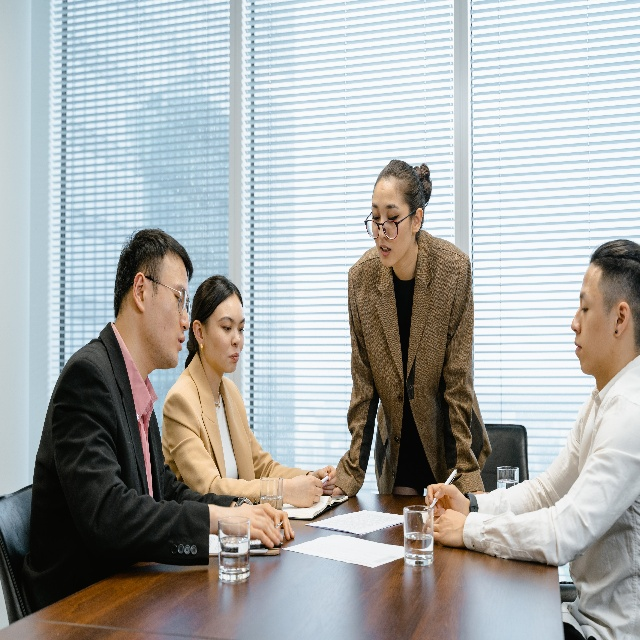Gafas: (130, 273, 190, 317), (364, 210, 417, 239)
Sin_guantes: (224, 502, 283, 548), (241, 500, 295, 542), (422, 507, 467, 548), (424, 482, 470, 517), (284, 474, 323, 507), (313, 464, 337, 496)
